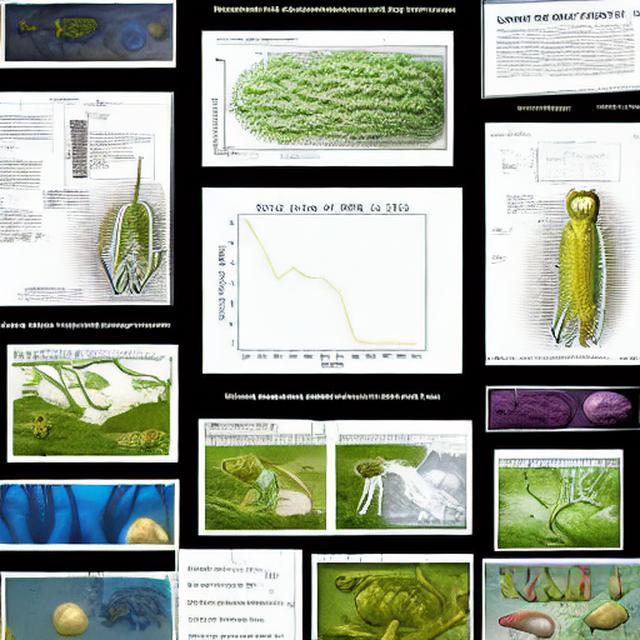Graph: (208, 190, 450, 372), (527, 139, 611, 189)
